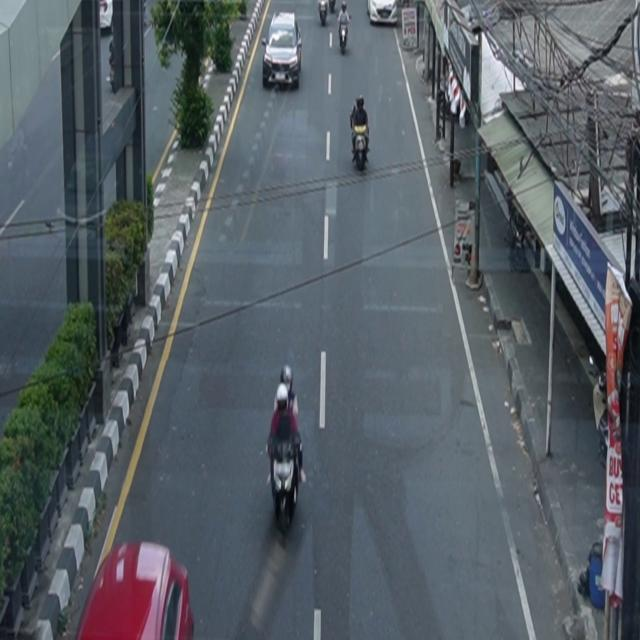car: (76, 541, 195, 640), (262, 12, 303, 91), (367, 1, 398, 26)
